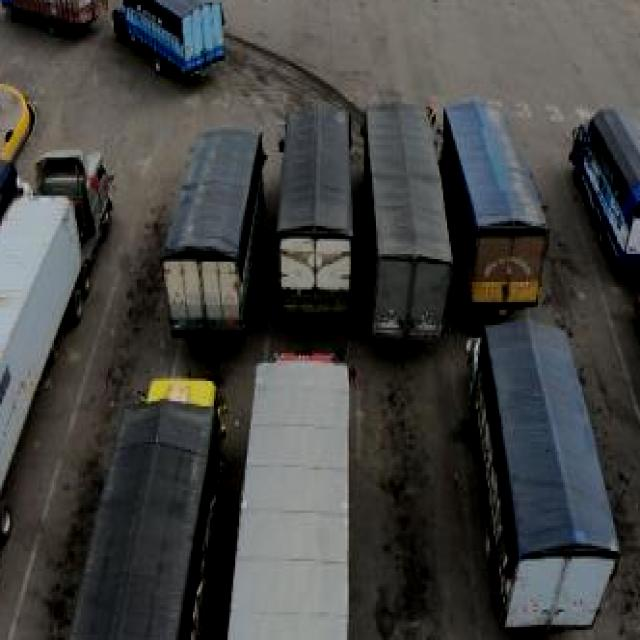TRUCK: (467, 326, 616, 634), (224, 348, 360, 640), (0, 152, 110, 490), (360, 93, 453, 342), (451, 100, 548, 308), (176, 124, 261, 335), (280, 96, 354, 326), (573, 92, 636, 268), (109, 0, 228, 72)
